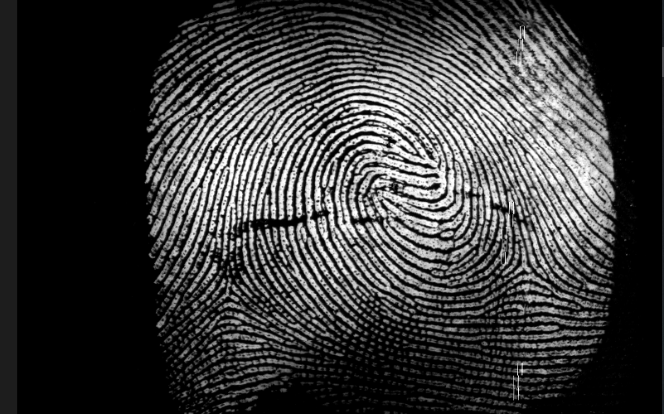deltas: (201, 265, 258, 318), (499, 245, 551, 298)
nucleo: (352, 144, 458, 228)
